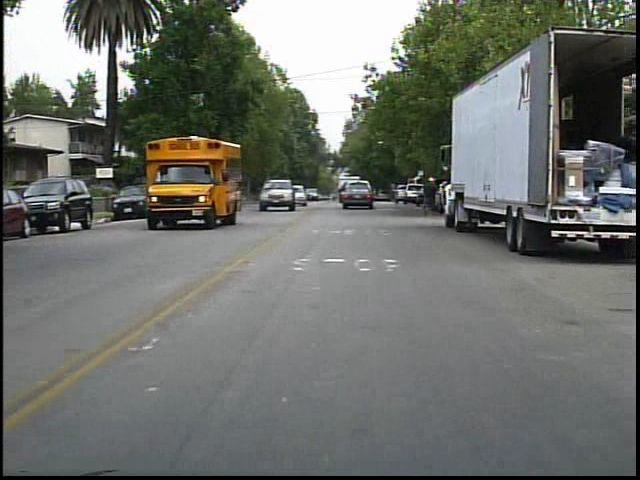person: (418, 172, 441, 220)
